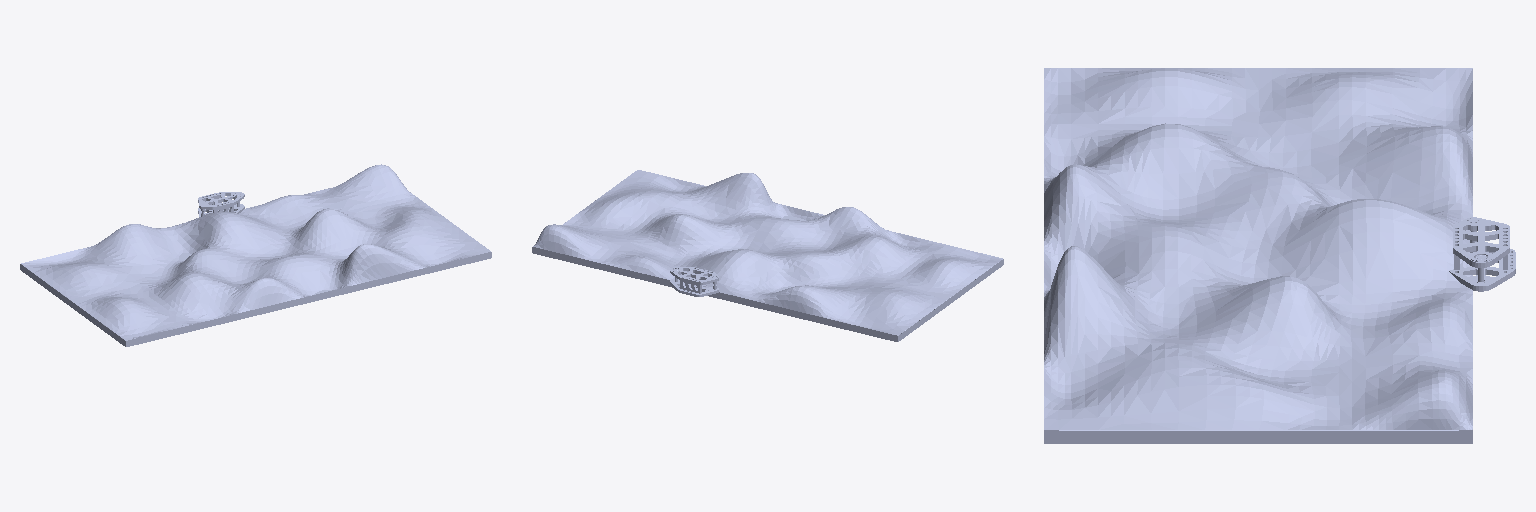
The robot description file, URDF, robot "SLOPE_GENERATOR2":
<robot
  name="SLOPE_GENERATOR2">
  <link
    name="BASE_LINK">
    <inertial>
      <origin
        xyz="3.4694E-18 -6.9389E-18 0"
        rpy="0 0 0" />
      <mass
        value="0.019117" />
      <inertia
        ixx="3.0675E-06"
        ixy="-3.574E-23"
        ixz="7.1668E-38"
        iyy="5.8164E-06"
        iyz="-1.6832E-22"
        izz="3.0675E-06" />
    </inertial>
    <visual>
      <origin
        xyz="0 0 0"
        rpy="0 0 0" />
      <geometry>
        <mesh
          filename="package://SLOPE_GENERATOR2/meshes/BASE_LINK.STL" />
      </geometry>
      <material
        name="">
        <color
          rgba="0.79216 0.81961 0.93333 1" />
      </material>
    </visual>
    <collision>
      <origin
        xyz="0 0 0"
        rpy="0 0 0" />
      <geometry>
        <mesh
          filename="package://SLOPE_GENERATOR2/meshes/BASE_LINK.STL" />
      </geometry>
    </collision>
  </link>
  <link
    name="MIDDLE_LINK">
    <inertial>
      <origin
        xyz="0.089812 -0.0099253 0.012851"
        rpy="0 0 0" />
      <mass
        value="3277.4" />
      <inertia
        ixx="2443.4"
        ixy="-45.032"
        ixz="-29.136"
        iyy="8865.8"
        iyz="12.397"
        izz="11258" />
    </inertial>
    <visual>
      <origin
        xyz="0 0 0"
        rpy="0 0 0" />
      <geometry>
        <mesh
          filename="package://SLOPE_GENERATOR2/meshes/MIDDLE_LINK.STL" />
      </geometry>
      <material
        name="">
        <color
          rgba="0.79216 0.81961 0.93333 1" />
      </material>
    </visual>
    <collision>
      <origin
        xyz="0 0 0"
        rpy="0 0 0" />
      <geometry>
        <mesh
          filename="package://SLOPE_GENERATOR2/meshes/MIDDLE_LINK.STL" />
      </geometry>
    </collision>
  </link>
  <joint
    name="MIDDLE_JOINT"
    type="continuous">
    <origin
      xyz="0 -1.505 0"
      rpy="-2.9266E-19 1.7347E-18 7.7289E-19" />
    <parent
      link="BASE_LINK" />
    <child
      link="MIDDLE_LINK" />
    <axis
      xyz="0 1 0" />
  </joint>
  <link
    name="INIT_LINK">
    <inertial>
      <origin
        xyz="-1.5009 -2.2204E-16 8.6736E-19"
        rpy="0 0 0" />
      <mass
        value="44.974" />
      <inertia
        ixx="33.736"
        ixy="-6.6405E-15"
        ixz="6.0958E-18"
        iyy="33.693"
        iyz="1.2777E-17"
        izz="67.429" />
    </inertial>
    <visual>
      <origin
        xyz="0 0 0"
        rpy="0 0 0" />
      <geometry>
        <mesh
          filename="package://SLOPE_GENERATOR2/meshes/INIT_LINK.STL" />
      </geometry>
      <material
        name="">
        <color
          rgba="0.79216 0.81961 0.93333 1" />
      </material>
    </visual>
    <collision>
      <origin
        xyz="0 0 0"
        rpy="0 0 0" />
      <geometry>
        <mesh
          filename="package://SLOPE_GENERATOR2/meshes/INIT_LINK.STL" />
      </geometry>
    </collision>
  </link>
  <joint
    name="INIT_JOINT"
    type="continuous">
    <origin
      xyz="-3 0 0"
      rpy="2.9266E-19 -1.7347E-18 -7.7289E-19" />
    <parent
      link="MIDDLE_LINK" />
    <child
      link="INIT_LINK" />
    <axis
      xyz="0 1 0" />
  </joint>
  <link
    name="END_LINK">
    <inertial>
      <origin
        xyz="1.5009 -4.4409E-16 8.6736E-19"
        rpy="0 0 0" />
      <mass
        value="44.974" />
      <inertia
        ixx="33.736"
        ixy="1.1363E-14"
        ixz="9.7723E-19"
        iyy="33.693"
        iyz="2.3223E-18"
        izz="67.429" />
    </inertial>
    <visual>
      <origin
        xyz="0 0 0"
        rpy="0 0 0" />
      <geometry>
        <mesh
          filename="package://SLOPE_GENERATOR2/meshes/END_LINK.STL" />
      </geometry>
      <material
        name="">
        <color
          rgba="0.79216 0.81961 0.93333 1" />
      </material>
    </visual>
    <collision>
      <origin
        xyz="0 0 0"
        rpy="0 0 0" />
      <geometry>
        <mesh
          filename="package://SLOPE_GENERATOR2/meshes/END_LINK.STL" />
      </geometry>
    </collision>
  </link>
  <joint
    name="END_JOINT"
    type="continuous">
    <origin
      xyz="3 0 0"
      rpy="0 3.7184E-35 0" />
    <parent
      link="MIDDLE_LINK" />
    <child
      link="END_LINK" />
    <axis
      xyz="0 1 0" />
  </joint>
</robot>

--- Render facts (derived) ---
The picture shows the robot from 3 angles, left to right: view 1: azimuth 30°, elevation 25°; view 2: azimuth 150°, elevation 25°; view 3: azimuth 270°, elevation 25°; orthographic projection.
Robot: SLOPE_GENERATOR2 — 4 links, 3 joints (3 continuous); root link BASE_LINK; default pose: all joints at 0.
Visible links, largest first — view 1: MIDDLE_LINK, BASE_LINK; view 2: MIDDLE_LINK, BASE_LINK; view 3: MIDDLE_LINK, BASE_LINK.
Boxes of the visible links, x1,y1,x2,y2 form: MIDDLE_LINK: (20, 164, 491, 346); BASE_LINK: (198, 192, 244, 216); MIDDLE_LINK: (532, 170, 1003, 341); BASE_LINK: (670, 267, 718, 296); MIDDLE_LINK: (1044, 68, 1472, 443); BASE_LINK: (1449, 217, 1515, 291).
Size in the robot's own frame: 6 by 3.3 by 0.623 metres.
Meshes: 4 distinct files referenced, 2 mesh visuals loaded (2 binary STL); not drawn: 2 (reference not matched to a file when rendering).